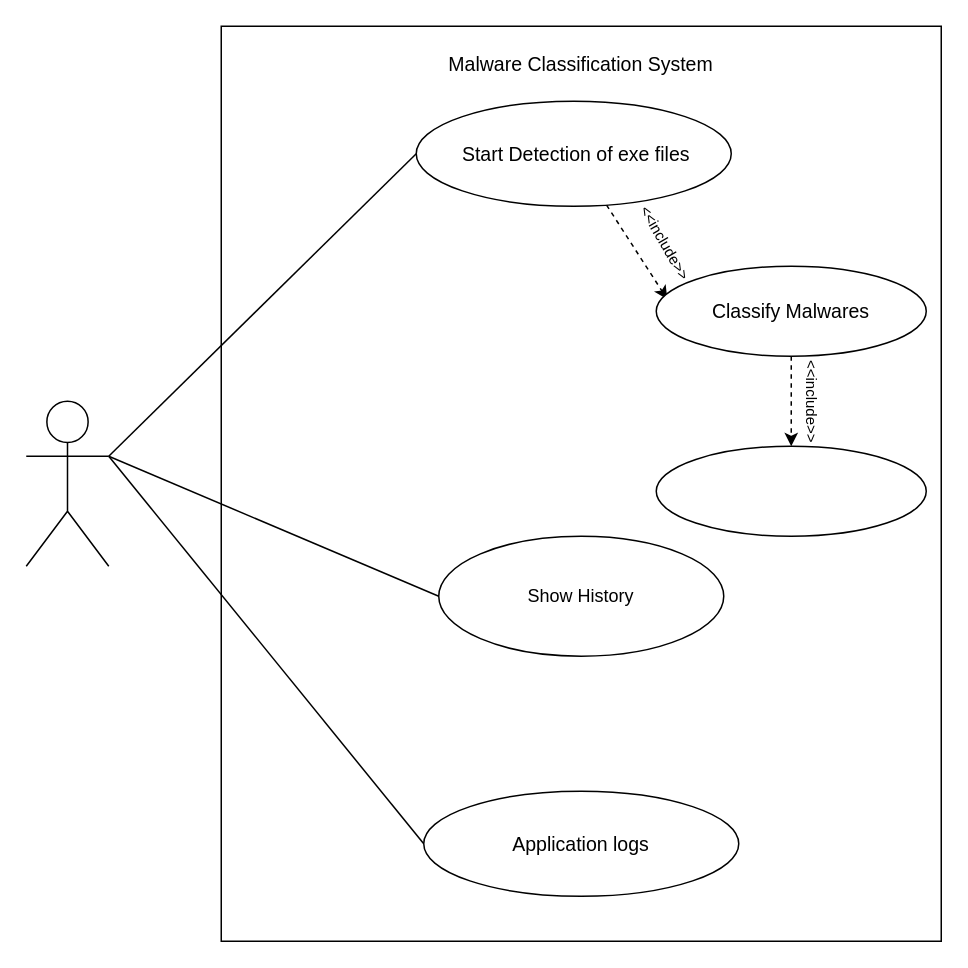
Some shapes in this 968 by 968 pixel diagram are drawn without their labels. Each missing label, with the box of its shape:
Show notifications: (655, 445, 926, 536)
User: (25, 400, 109, 566)
